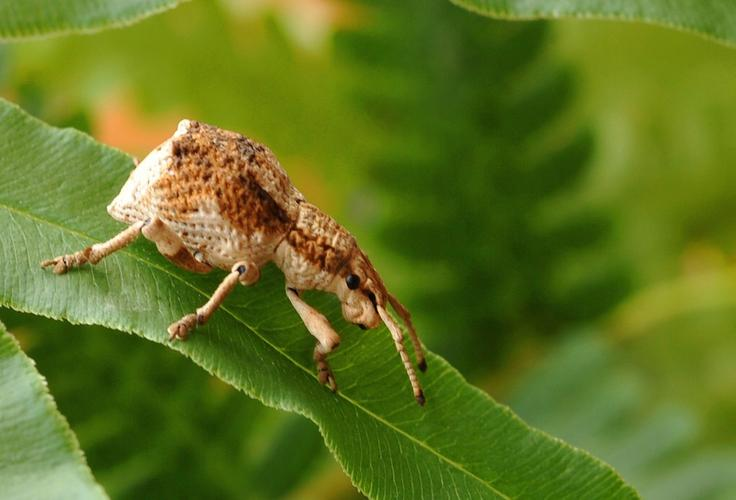Curculionidae: (40, 116, 427, 408)
